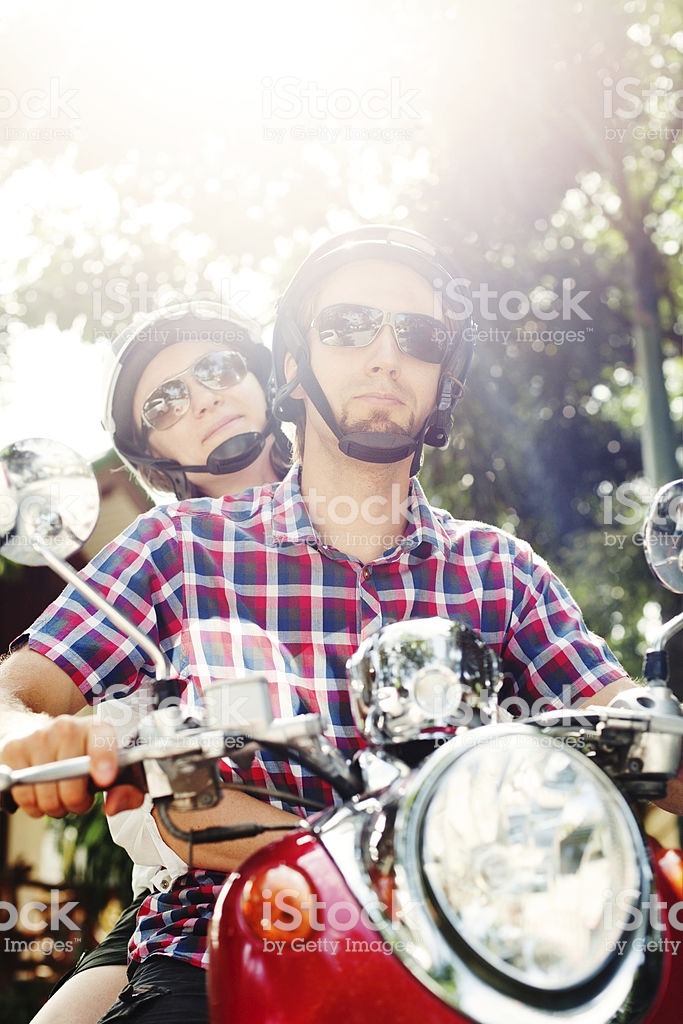helmet: (272, 204, 467, 317)
